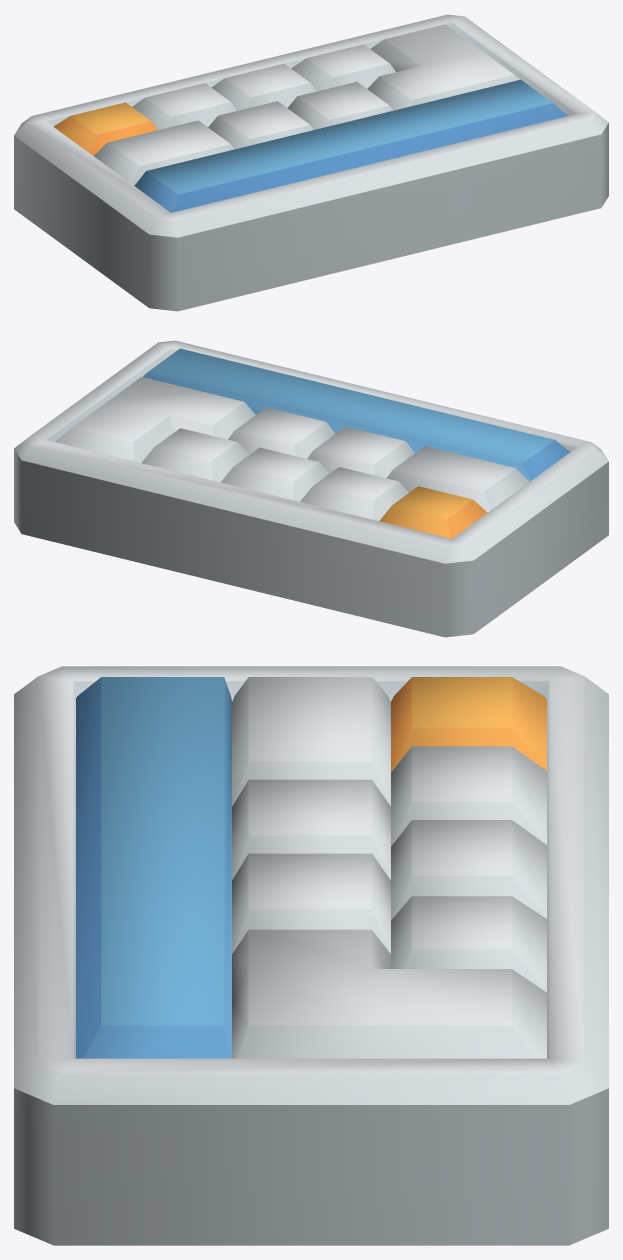
Rendered from keyboard.glb.
The picture shows the model from 3 angles, top to bottom: view 1: azimuth 30°, elevation 25°; view 2: azimuth 150°, elevation 25°; view 3: azimuth 270°, elevation 25°; orthographic projection. The views are drawn at different scales.
Visible parts, largest first — view 1: keyboard; view 2: keyboard; view 3: keyboard.
Boxes of the visible parts, x1,y1,x2,y2 form: keyboard: (14,14,608,311); keyboard: (14,340,608,637); keyboard: (14,666,608,1245).
Size of the model in its own units: 0.765 by 0.165 by 0.45.
1 material, 1 textured.
